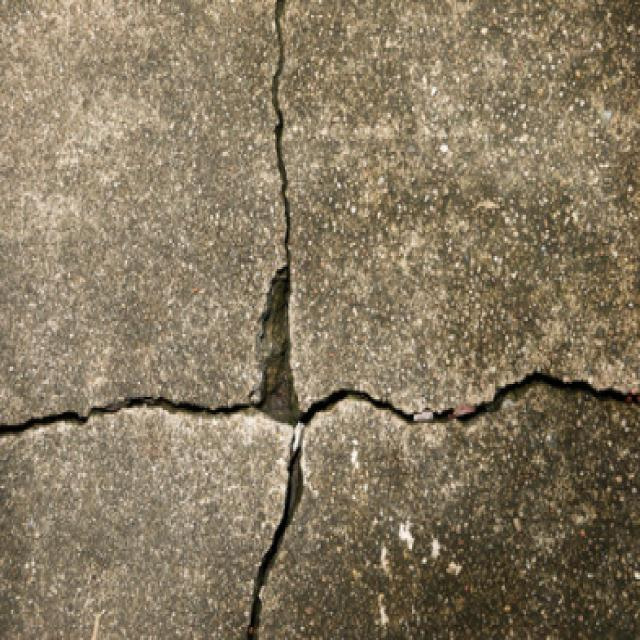branched cracks: (0, 0, 639, 639)
